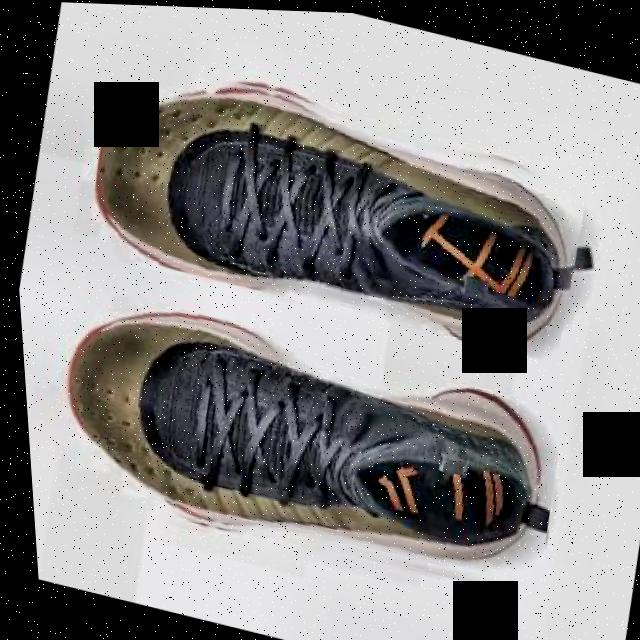shoe: (29, 279, 571, 608), (71, 44, 600, 362)
